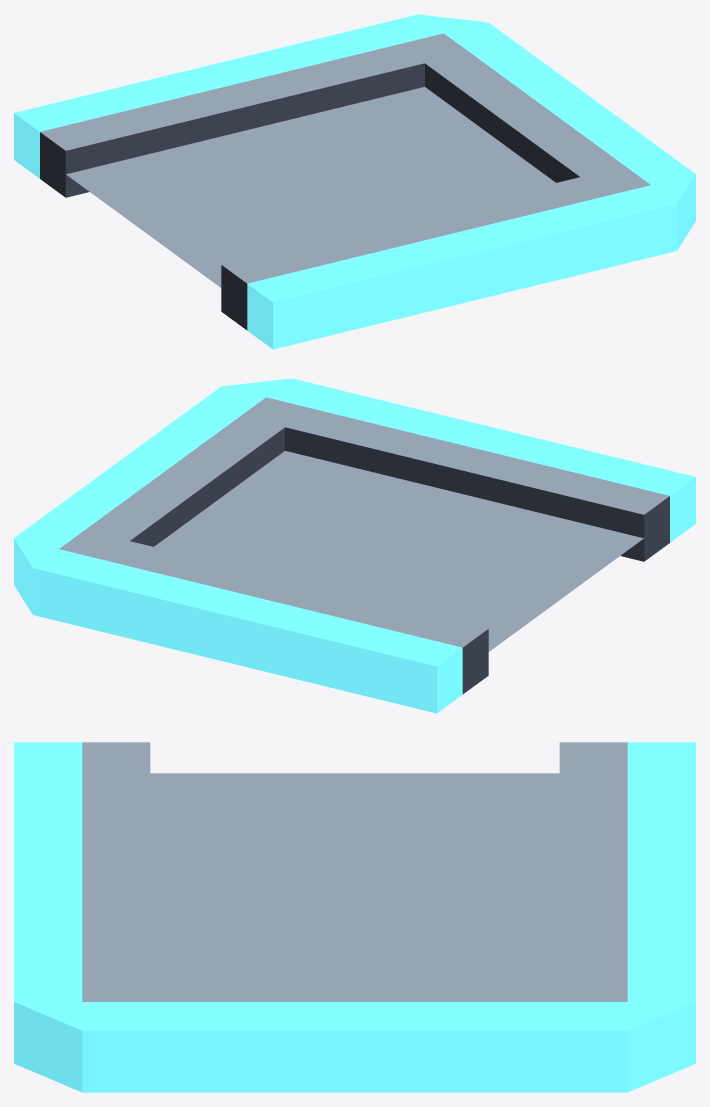
Rendered from platform_end.glb.
3 renders of one model, top to bottom at view 1: azimuth 30°, elevation 25°; view 2: azimuth 150°, elevation 25°; view 3: azimuth 270°, elevation 25°, orthographic. The views are drawn at different scales.
Parts seen in each view (by area): view 1: platform_end; view 2: platform_end; view 3: platform_end.
Boxes of the visible parts, x1=… form: platform_end: x1=14, y1=14, x2=695, y2=349; platform_end: x1=14, y1=378, x2=695, y2=713; platform_end: x1=14, y1=742, x2=695, y2=1092.
Size of the model in its own units: 1 by 0.1 by 1.
